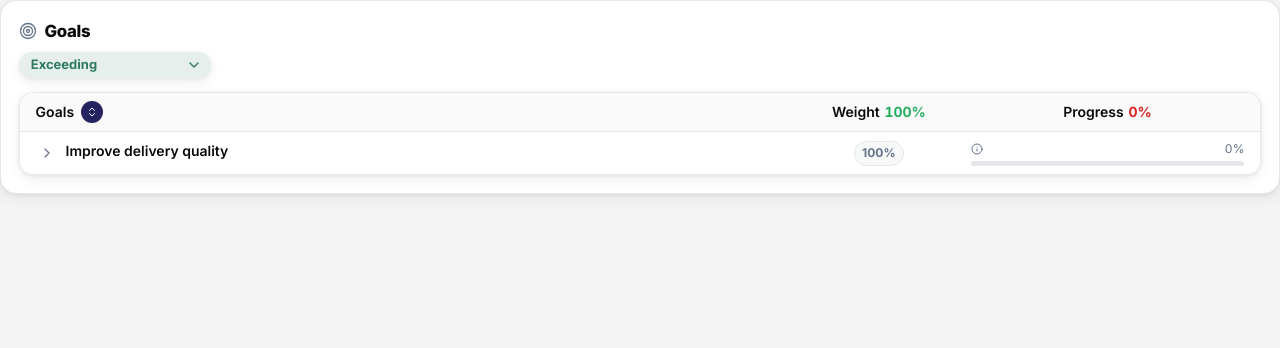
Test case: ScorecardGoalsCard › puts the goals grade next to the Goals heading
This screenshot has width=1280, height=348.
Expected: the column heading "Progress 0%" is shown, [1063,103,1152,120]
What coordinates should you click on to do the following:
click the button with aria-label "Goals (50%)"
I would click on:
 (115, 65)
Its box is [19,52,212,78].
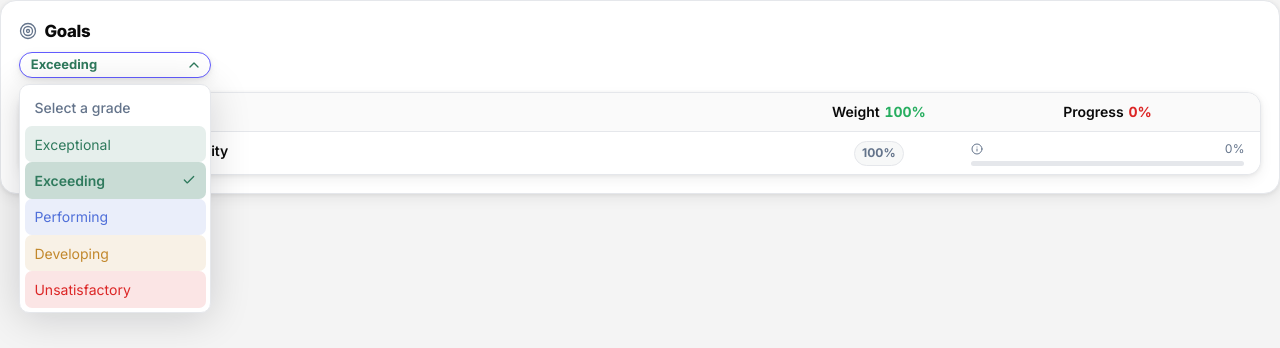
Now the list is shown, box [25,90,206,308]
Now the option "Performing" is shown, box [25,199,206,235]
